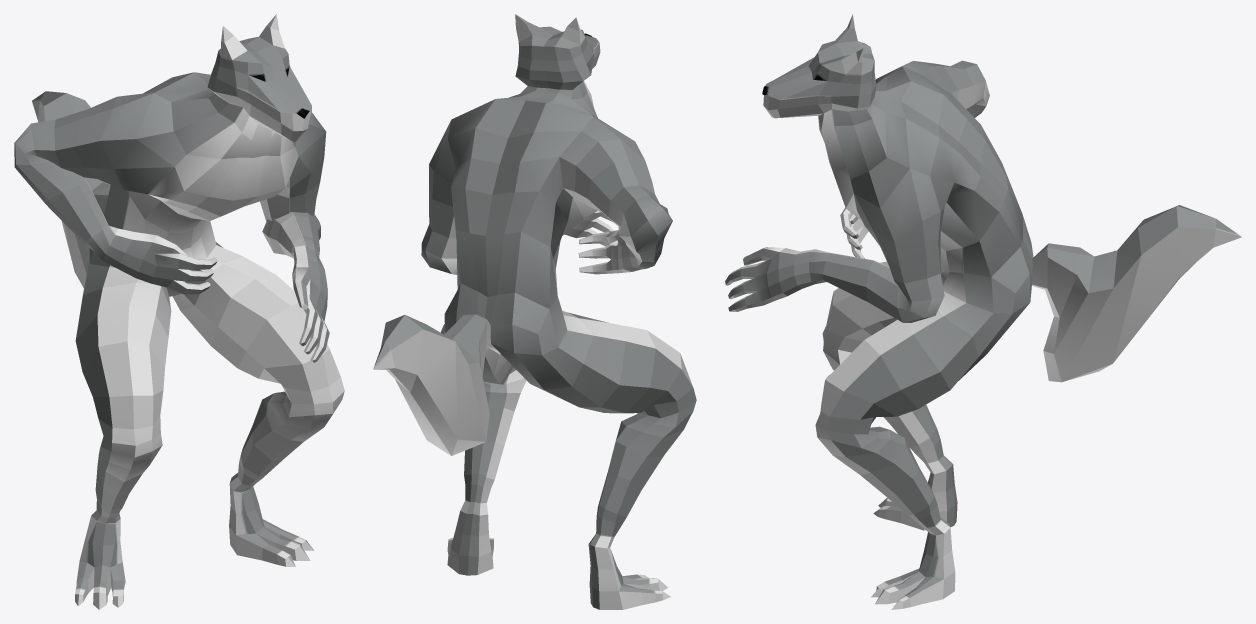
Rendered from WolfIdle_(27).obj.
3 renders of one model, left to right at view 1: azimuth 30°, elevation 25°; view 2: azimuth 150°, elevation 25°; view 3: azimuth 270°, elevation 25°, orthographic. The views are drawn at different scales.
Parts seen in each view (by area): view 1: Box001; view 2: Box001; view 3: Box001.
Boxes of the visible parts, box(x1,y1,x2,y2) form: Box001: box(14, 14, 344, 609); Box001: box(373, 14, 696, 609); Box001: box(725, 14, 1241, 609).
Size of the model in its own units: 69.18 by 134 by 115.
